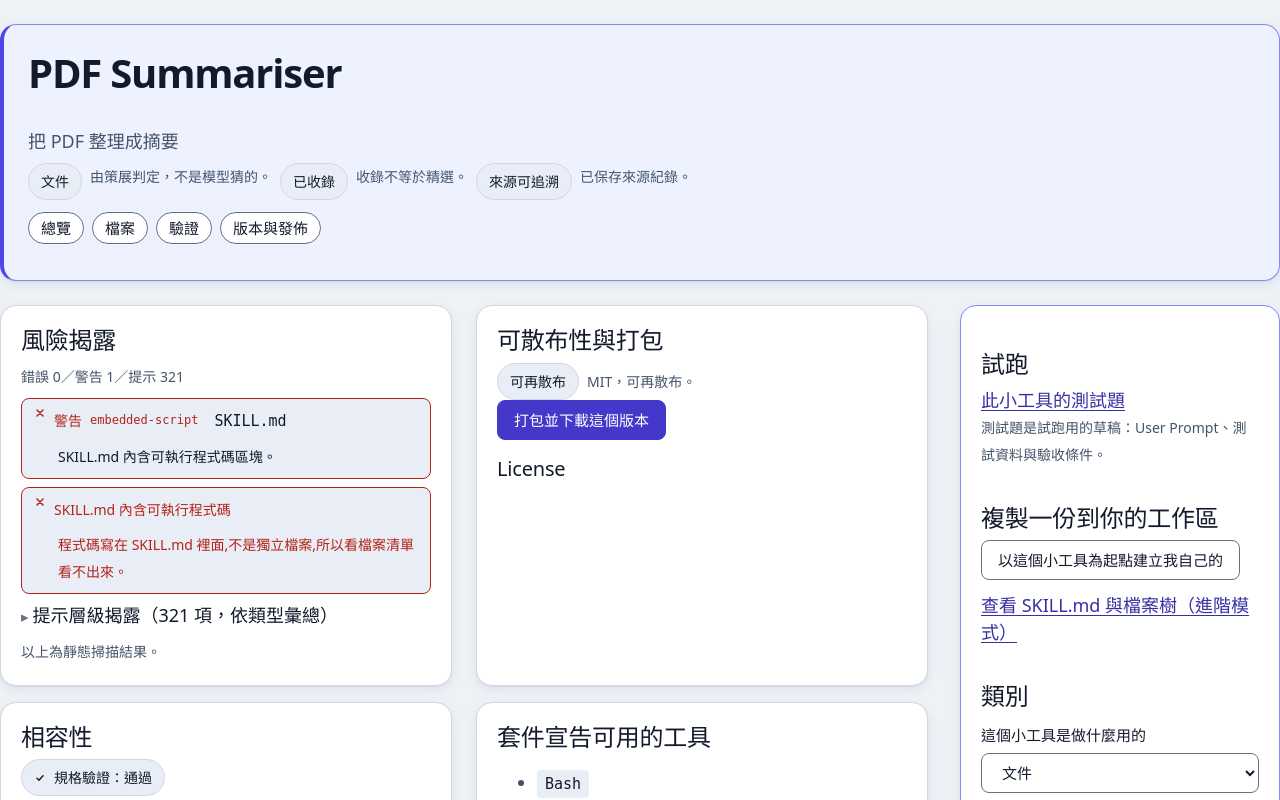
丙-153: 複製一份 403（沒有封測邀請）印中文句，不印 betaNotInvited 的英文段落
Click the button "以這個小工具為起點建立我自己的" at (1110, 560), box [981,540,1240,580]
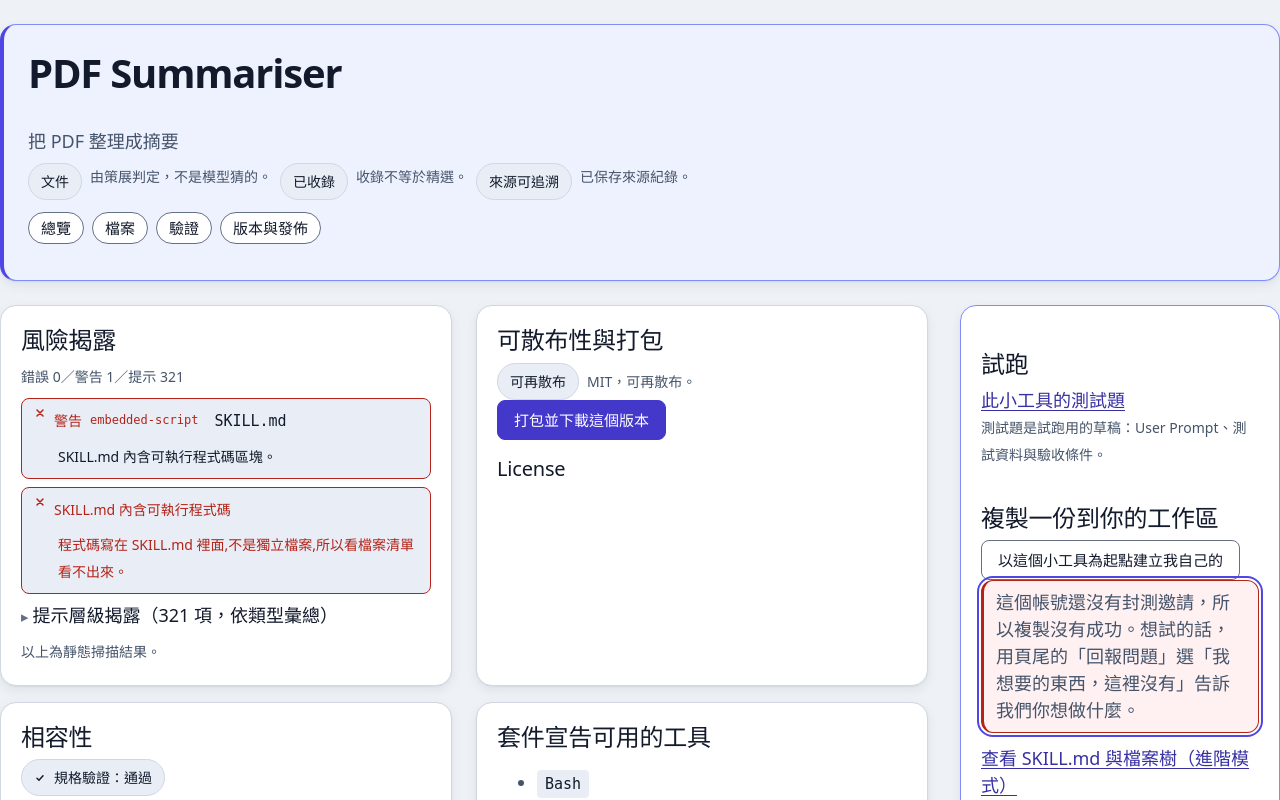
Expected: the text "這個帳號還沒有封測邀請，所以複製沒有成功。想試的話，用頁尾的「回報問題」選「我想要的東西，這裡沒有」告訴我們你想做什麼。" is shown, [981,580,1259,733]
